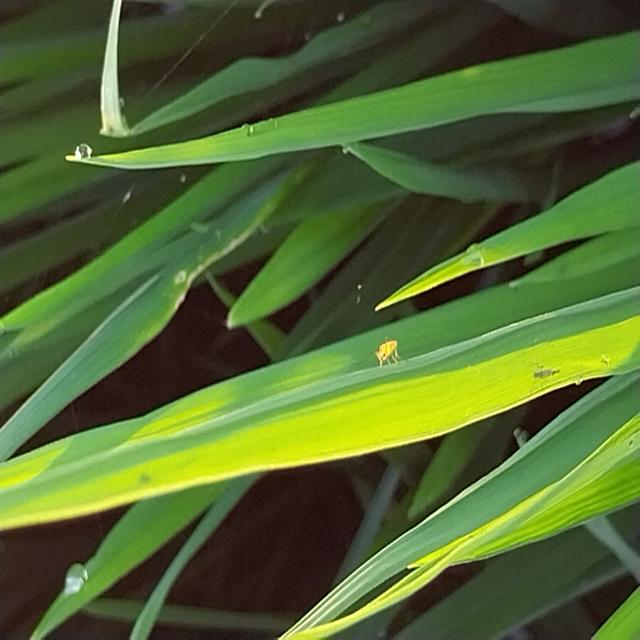healthy: (354, 328, 416, 375)
